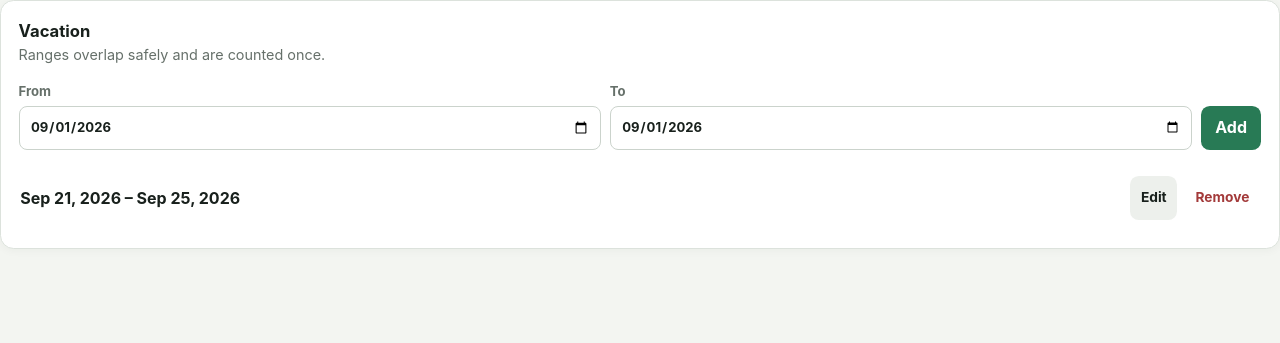
Test case: edits existing dates and refreshes the list and dependent data after saving
Click the button with aria-label "Edit vacation" at [1154, 198], box [1130, 176, 1177, 220]
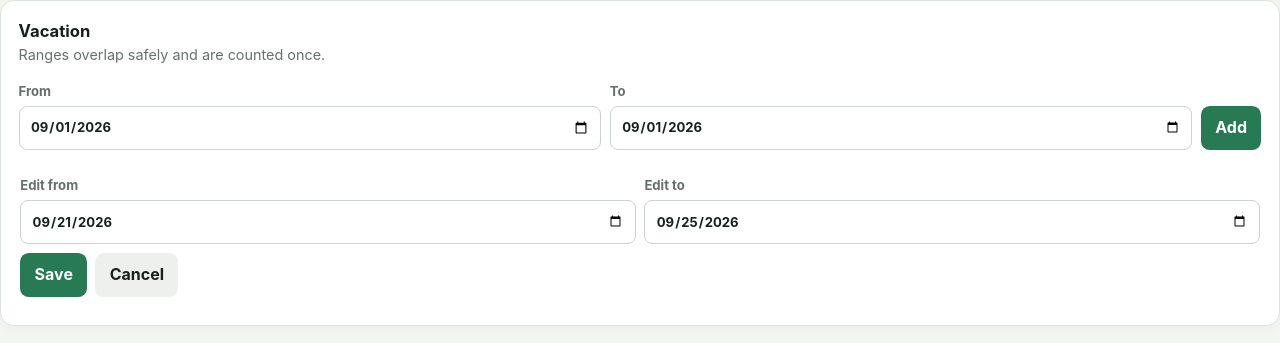
Expected: the date field labelled "Edit from" holds "2026-09-21"
Expected: the date field labelled "Edit to" holds "2026-09-25", [644, 200, 1260, 244]
Type "2026-09-22" into the date field labelled "Edit from" at [328, 222], box [20, 200, 636, 244]
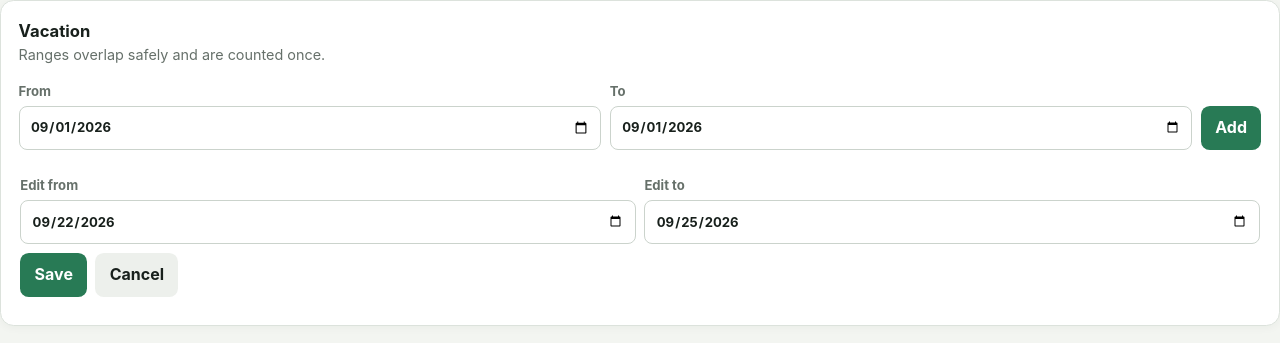
Type "2026-09-24" into the date field labelled "Edit to" at [952, 222], box [644, 200, 1260, 244]
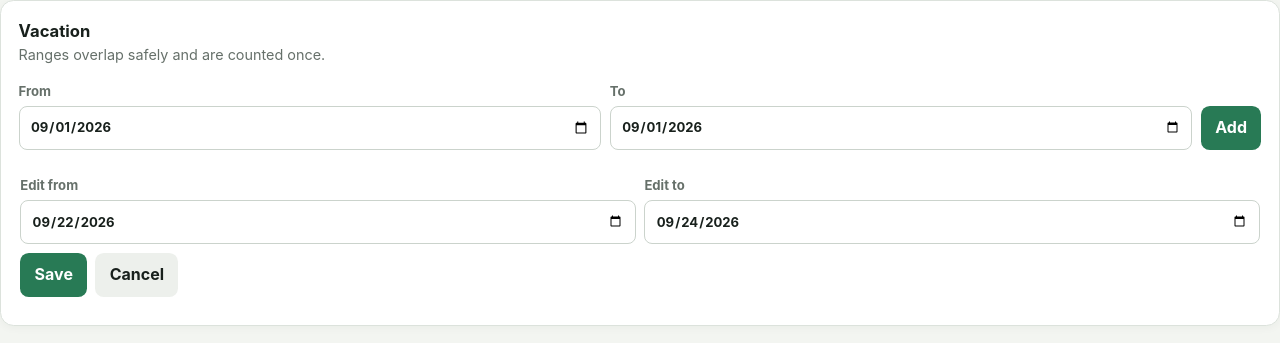
Expected: the date field labelled "Edit to" has attribute min="2026-09-22", [644, 200, 1260, 244]
Submit the form "Save", box [20, 176, 1260, 297]
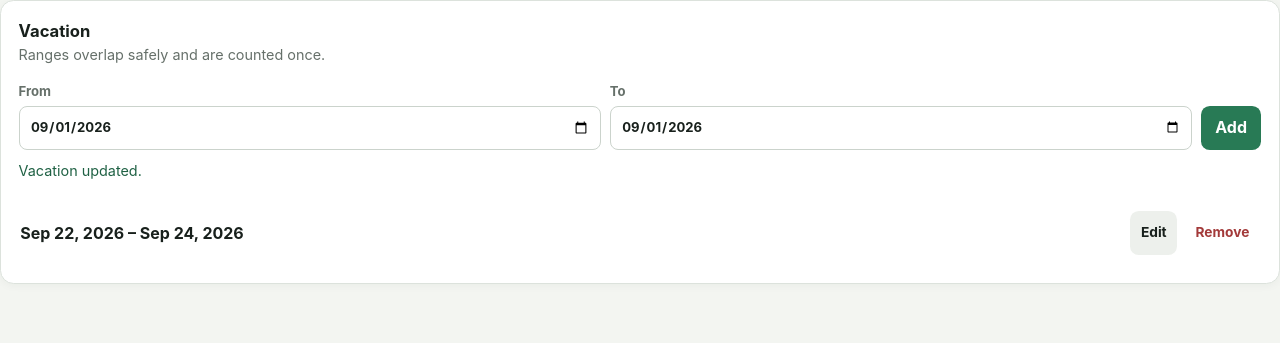
Expected: the button with aria-label "Edit vacation Sep 22" is shown, [1130, 211, 1177, 255]
Expected: the message reads "Vacation updated.", [19, 162, 142, 179]
